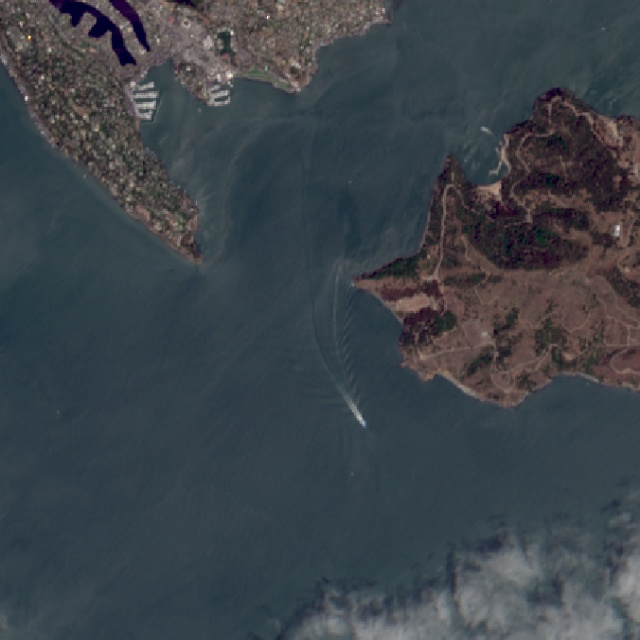wake: (251, 287, 414, 460)
